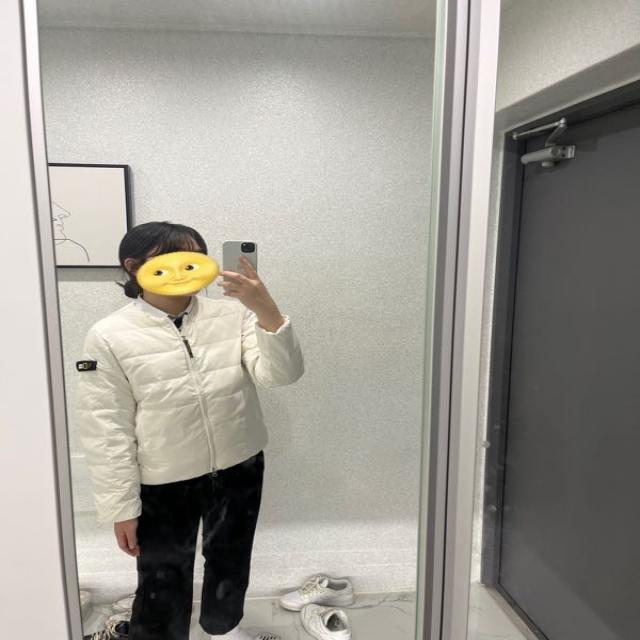padding: (75, 292, 302, 520)
slacks: (131, 452, 264, 640)
